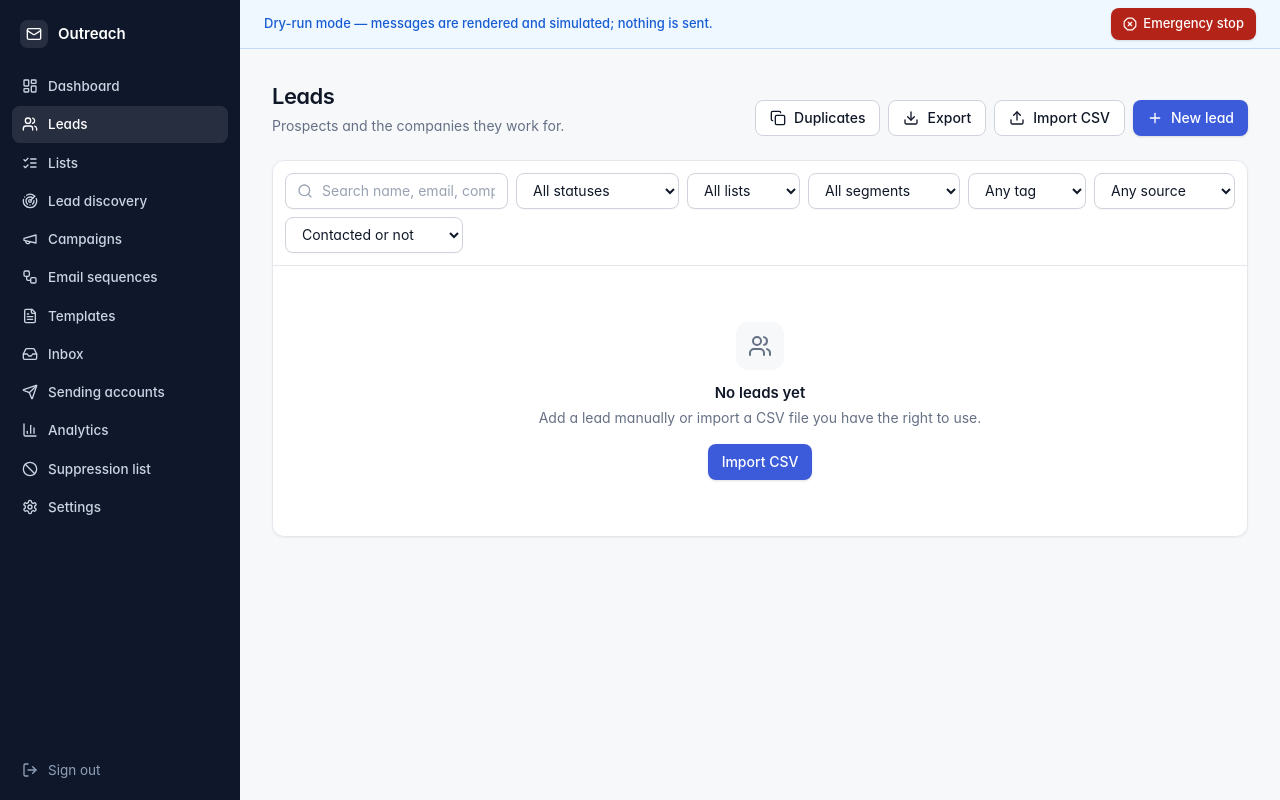
Scenario: app shell › validates the lead form before submitting
Click the button "New lead".
click(1190, 118)  # box [1133,100,1248,136]
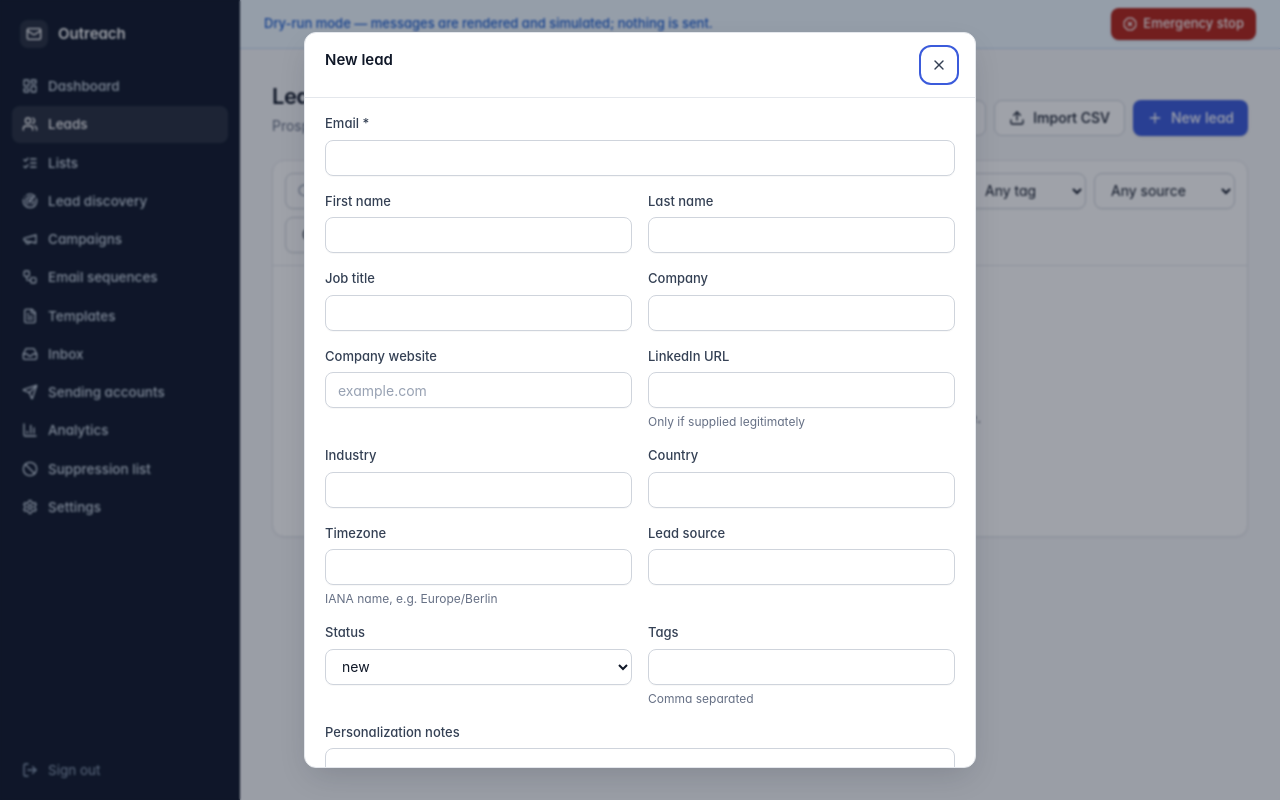
Type "not-an-email" into the field labelled "Email *".
click(640, 158); type("not-an-email")  # box [325,140,955,176]
(page scrolled)
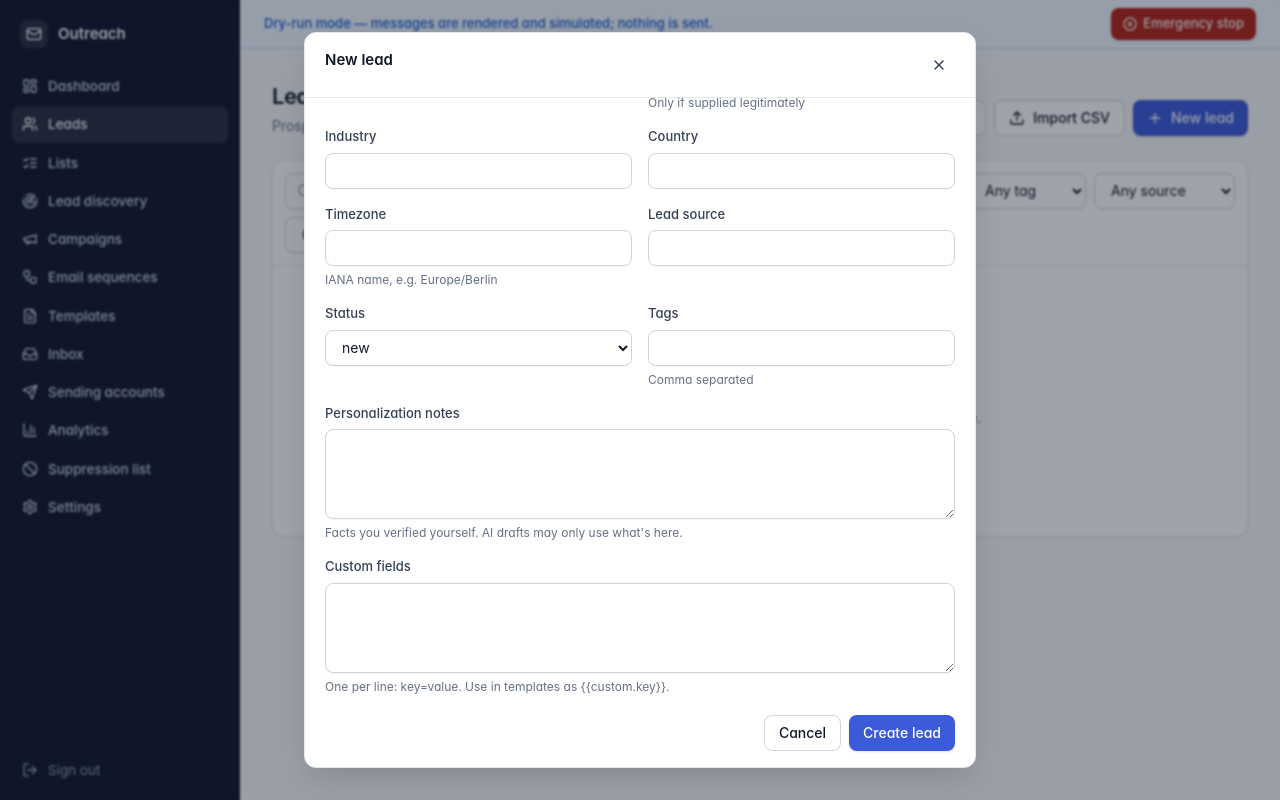
Click the button "Create lead".
click(902, 732)  # box [849,714,955,750]
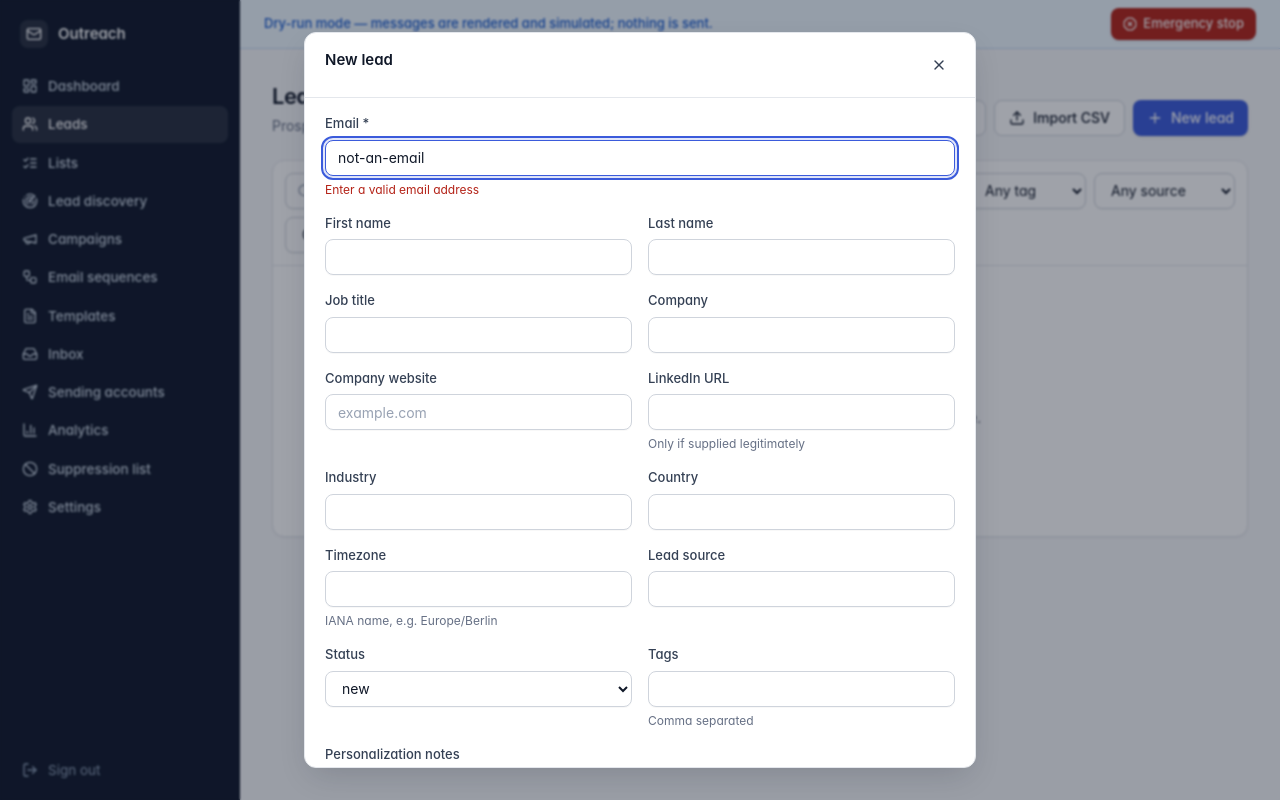
Expected: the text "Enter a valid email address" is shown, [325,182,479,196]
